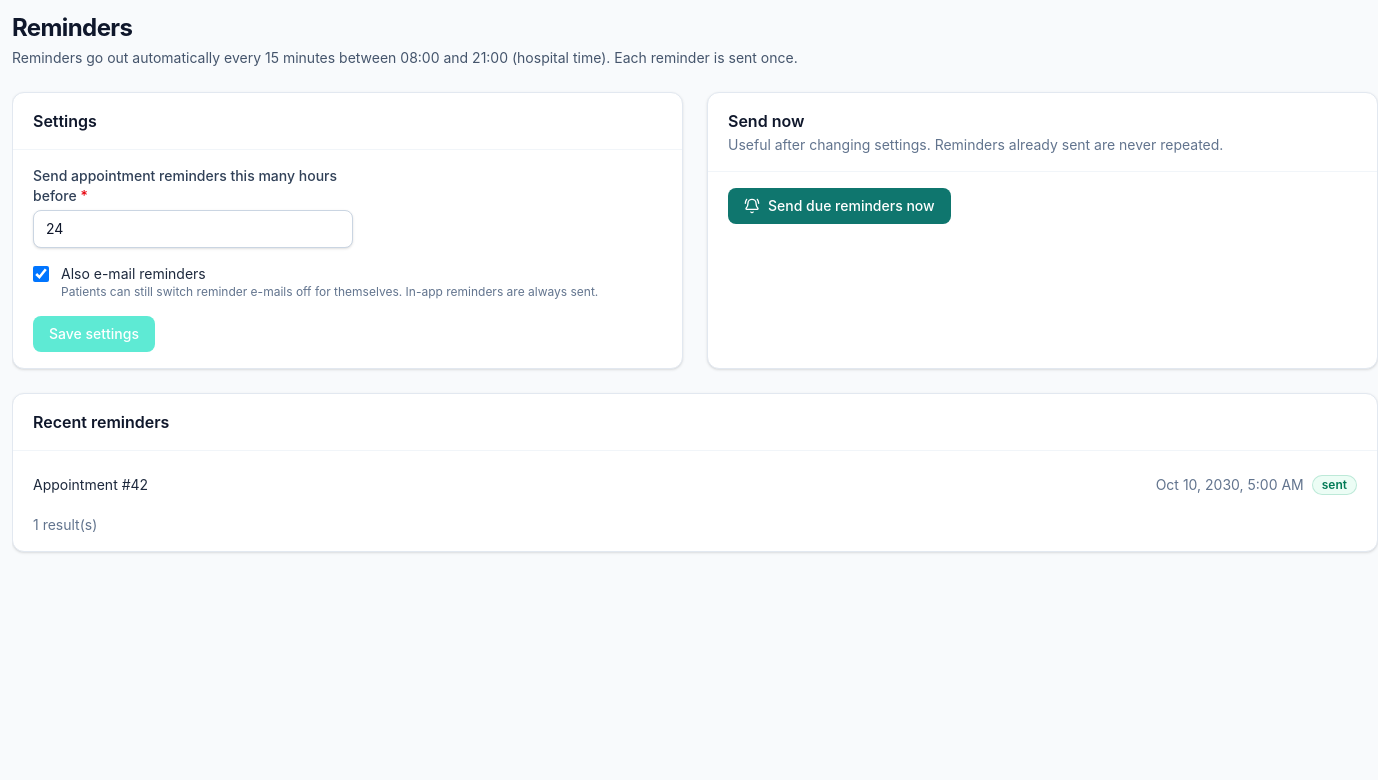
RemindersPage › validates the lead time, saves settings and runs reminders on demand
Expected: the text "Appointment #42" is shown, [33, 475, 148, 495]
Replace the text in the number field labelled "Send appointment reminders this many hours before *" with "200": x=193, y=229 [33, 210, 353, 248]
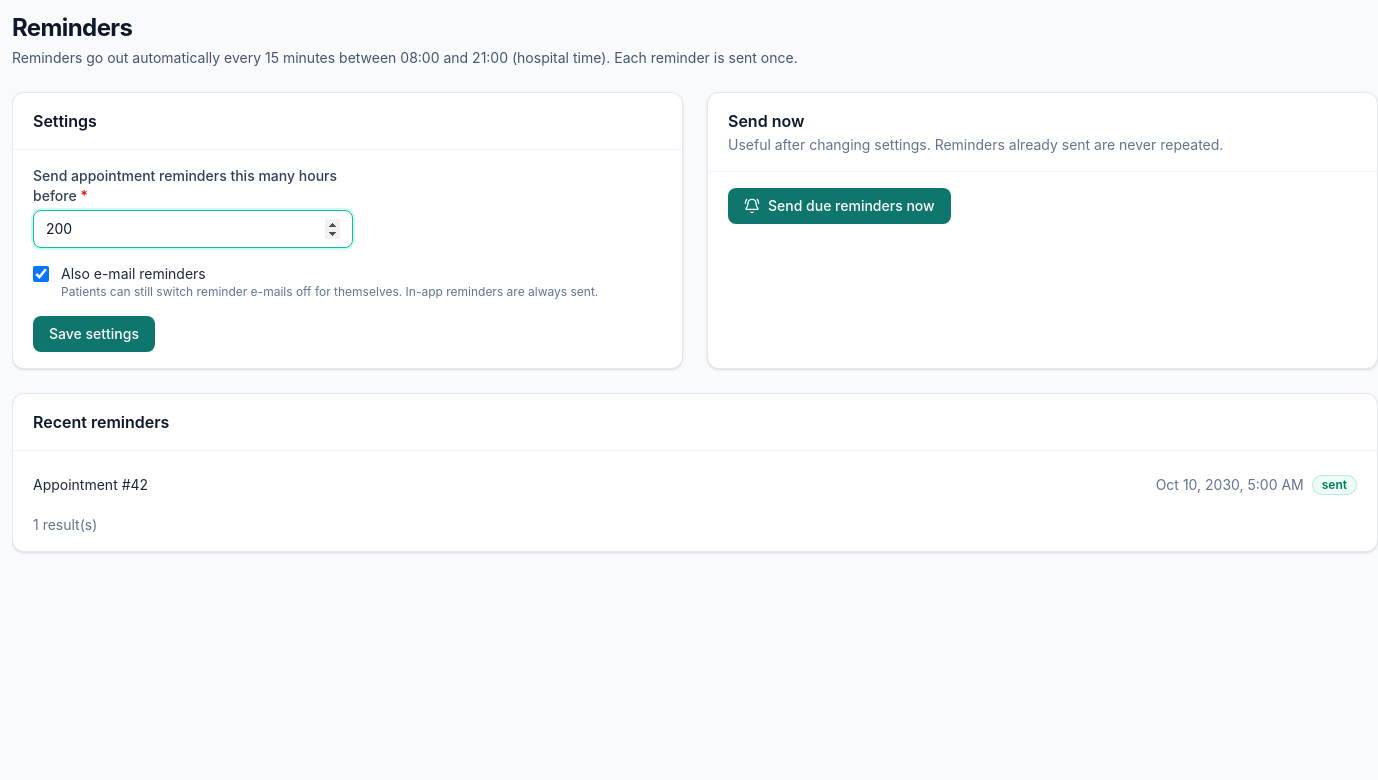
Click the button "Save settings": x=94, y=334 [33, 316, 155, 352]
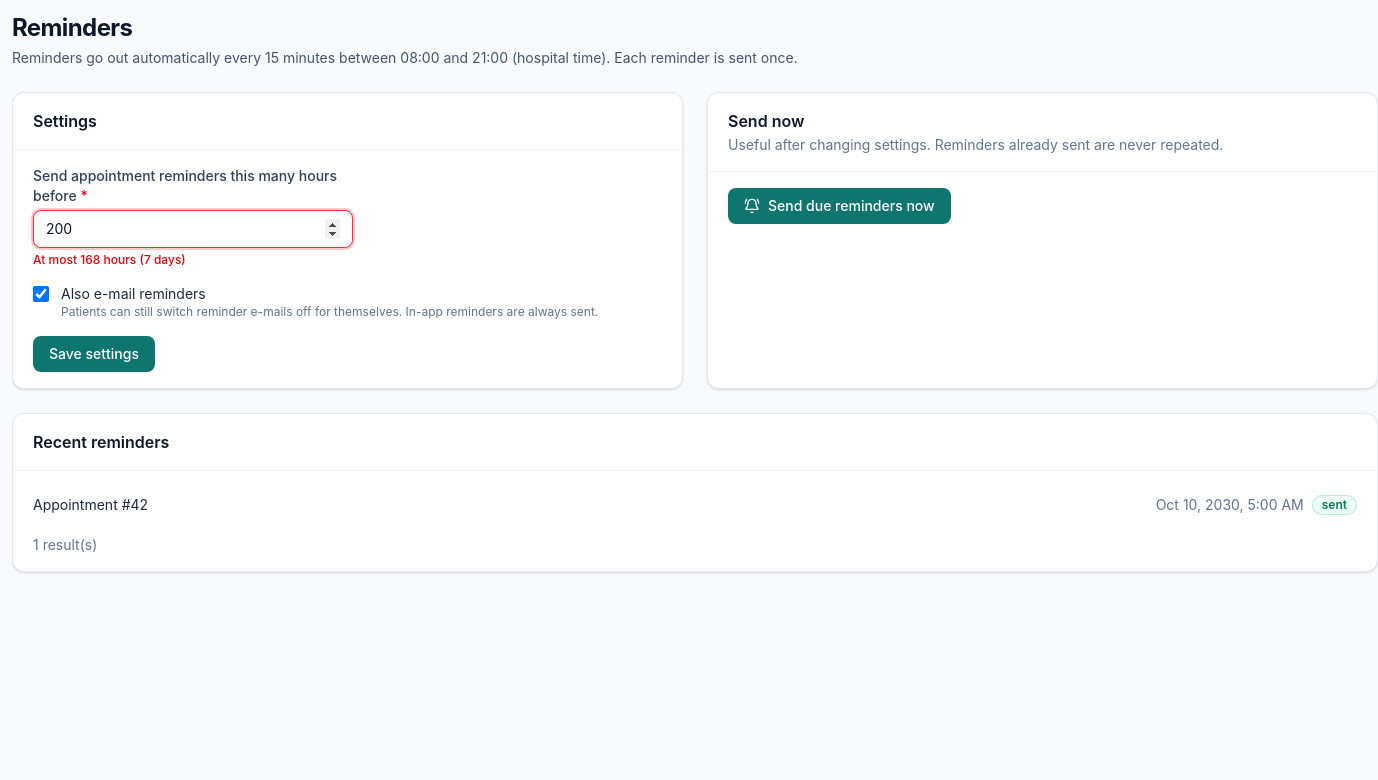
Expected: the text "At most 168 hours (7 days)" is shown, [33, 252, 186, 267]
Replace the text in the number field labelled "Send appointment reminders this many hours before *" with "48": x=193, y=229 [33, 210, 353, 248]
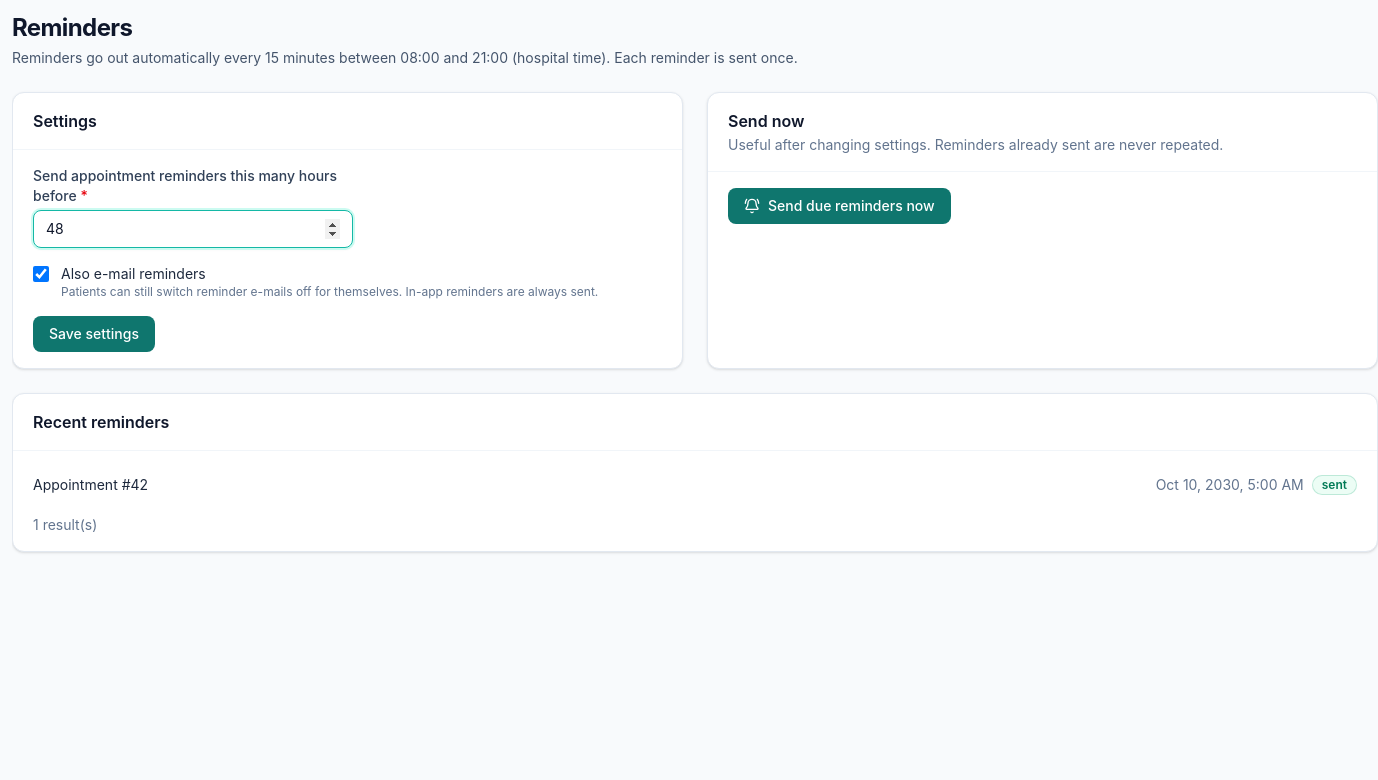
Click the button "Save settings": x=94, y=334 [33, 316, 155, 352]
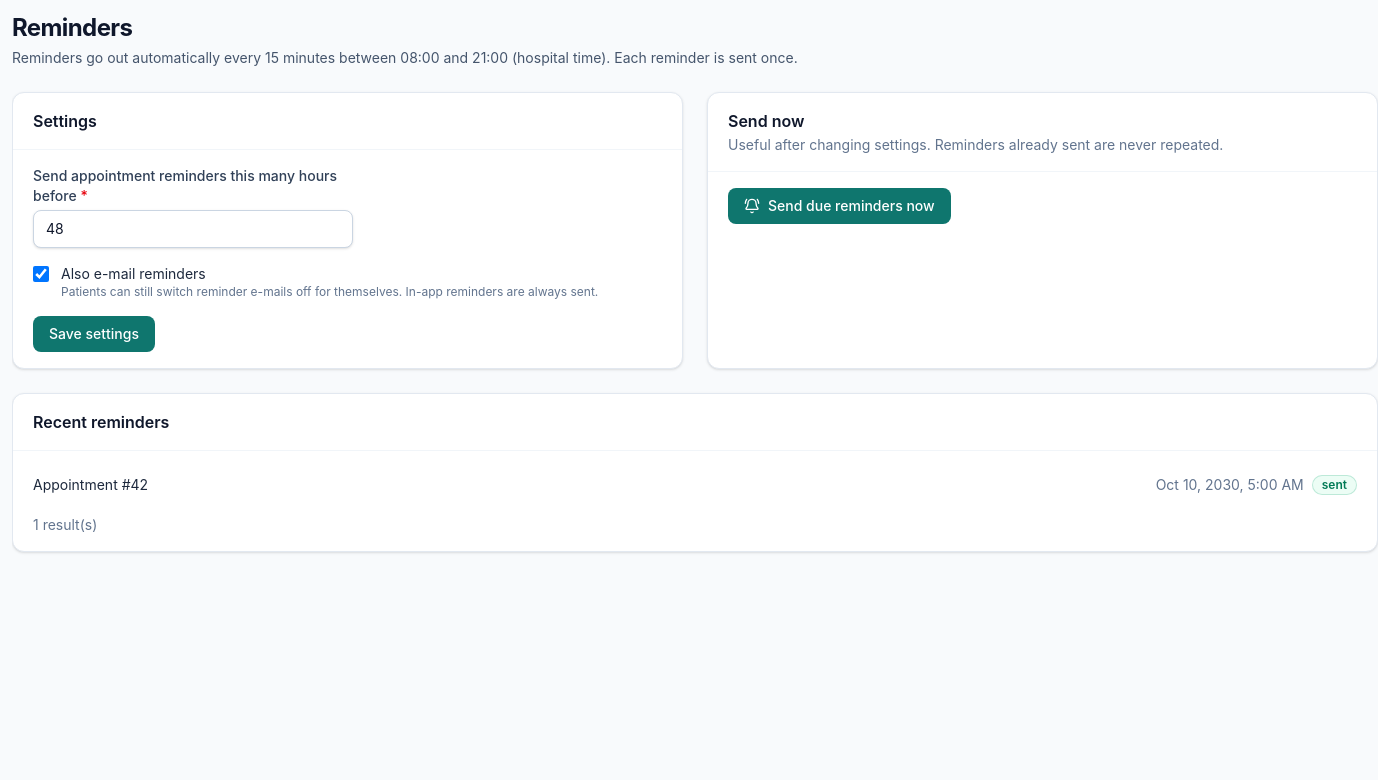
Click the button "Send due reminders now": x=839, y=206 [728, 188, 951, 224]
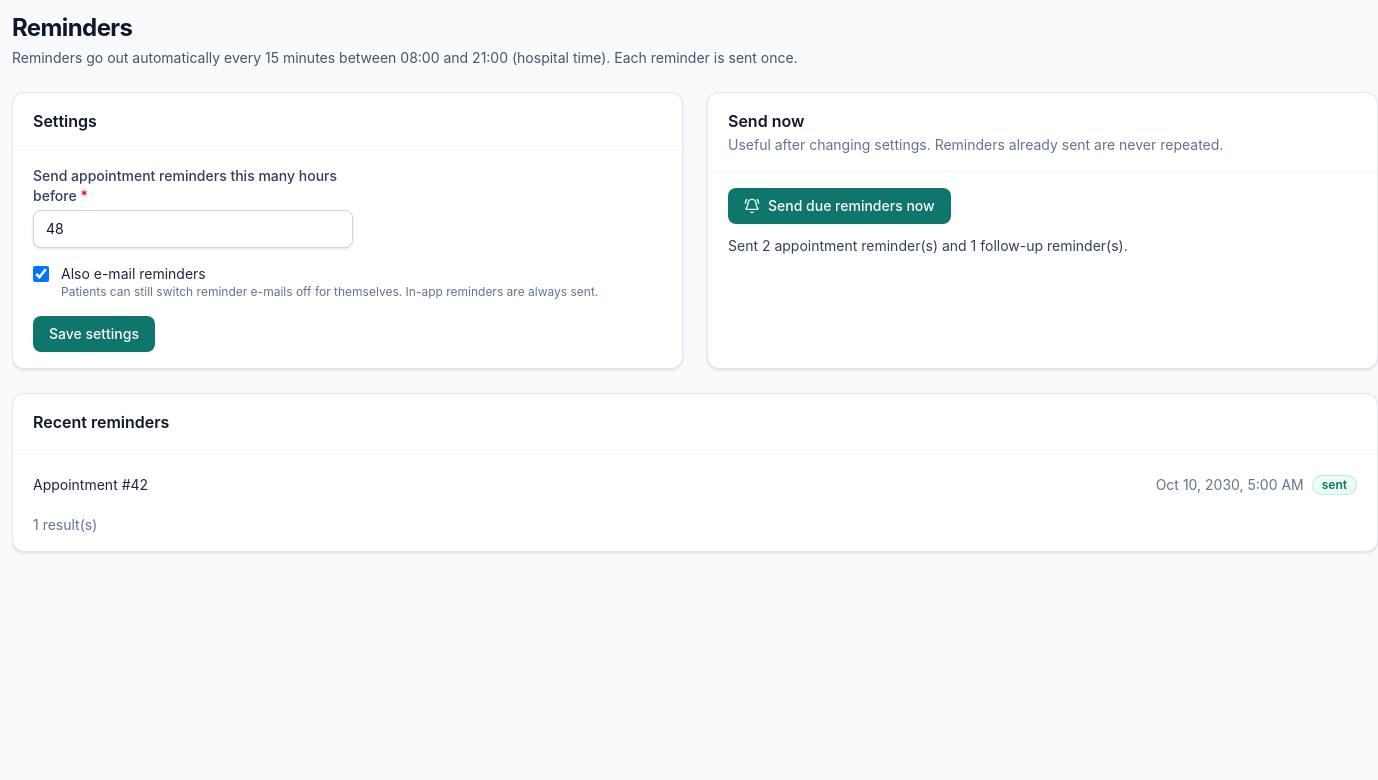
Expected: the message reads "Sent 2 appointment reminder(s) and 1 follow-up reminder(s).", [728, 237, 1128, 254]
